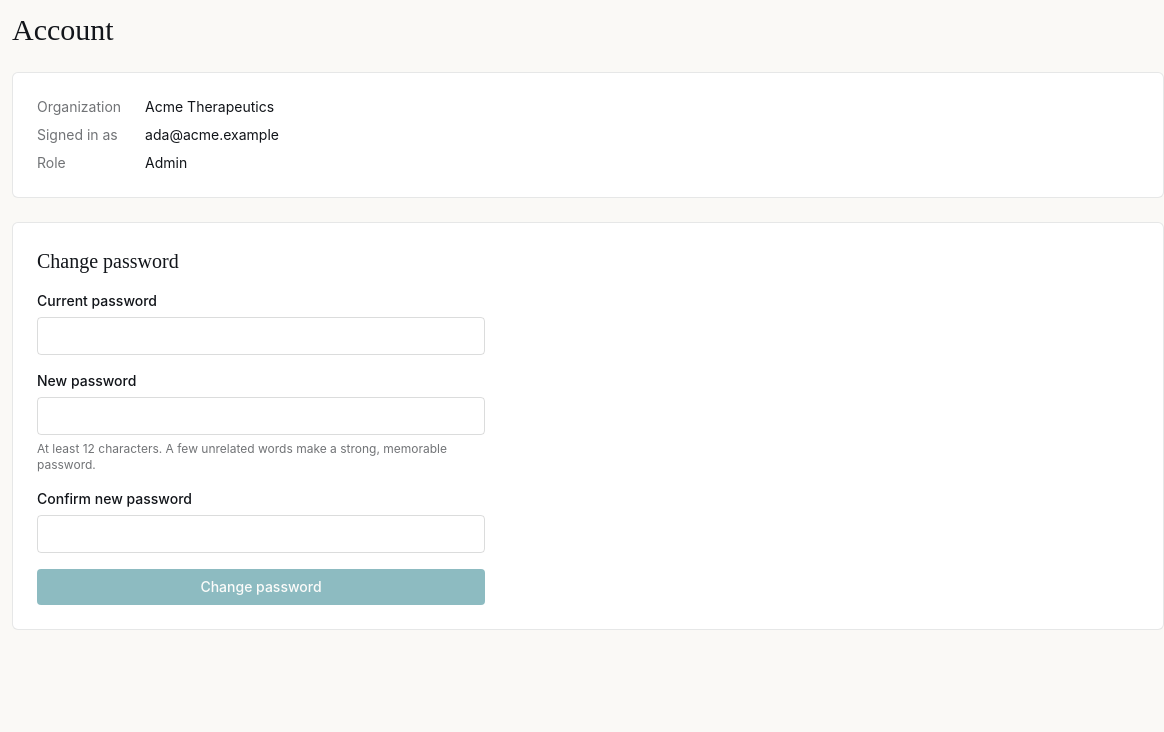
Account › shows the server's message for a wrong current password
Type "not my password" into the password field labelled "Current password" at (261, 336), box [37,317,485,355]
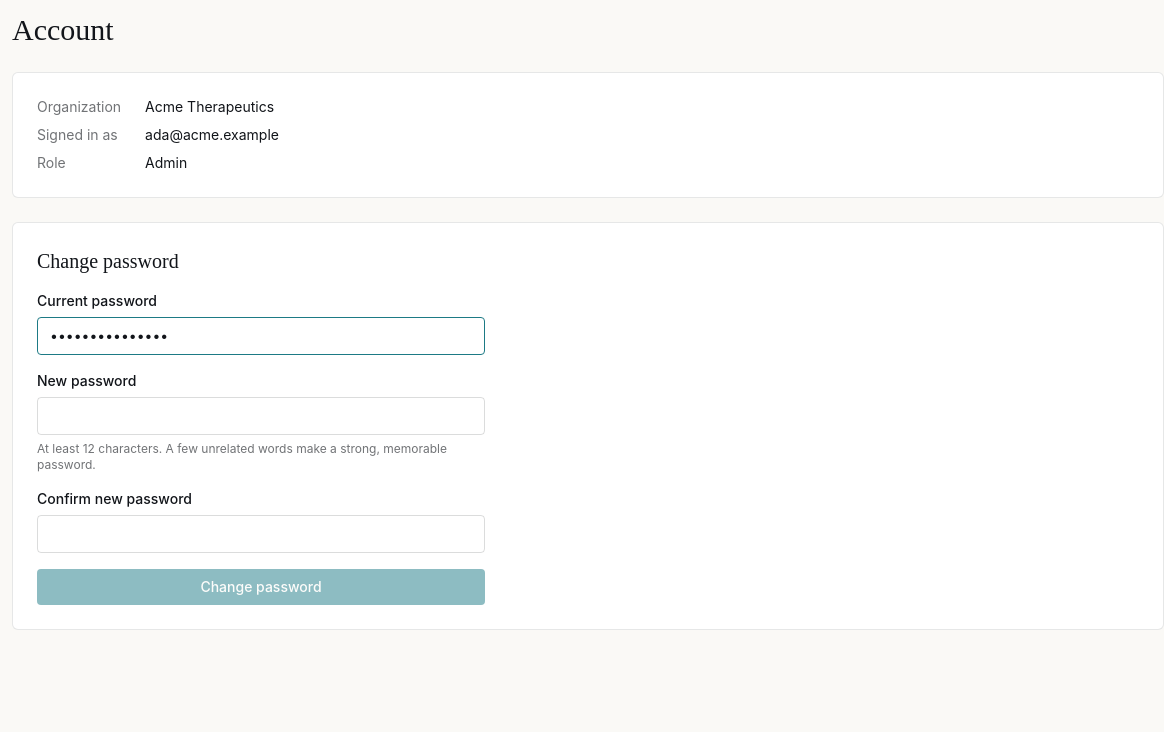
Type "an even better passphrase" into the password field labelled "New password" at (261, 416), box [37,397,485,435]
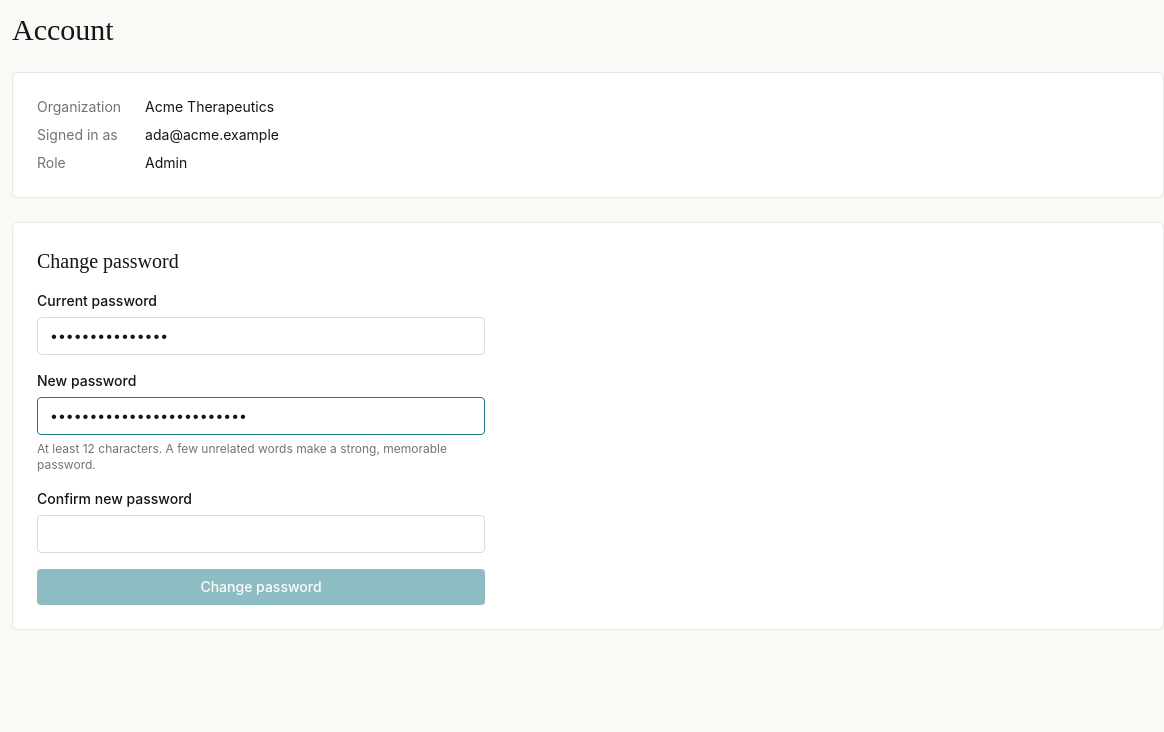
Type "an even better passphrase" into the password field labelled "Confirm new password" at (261, 534), box [37,515,485,553]
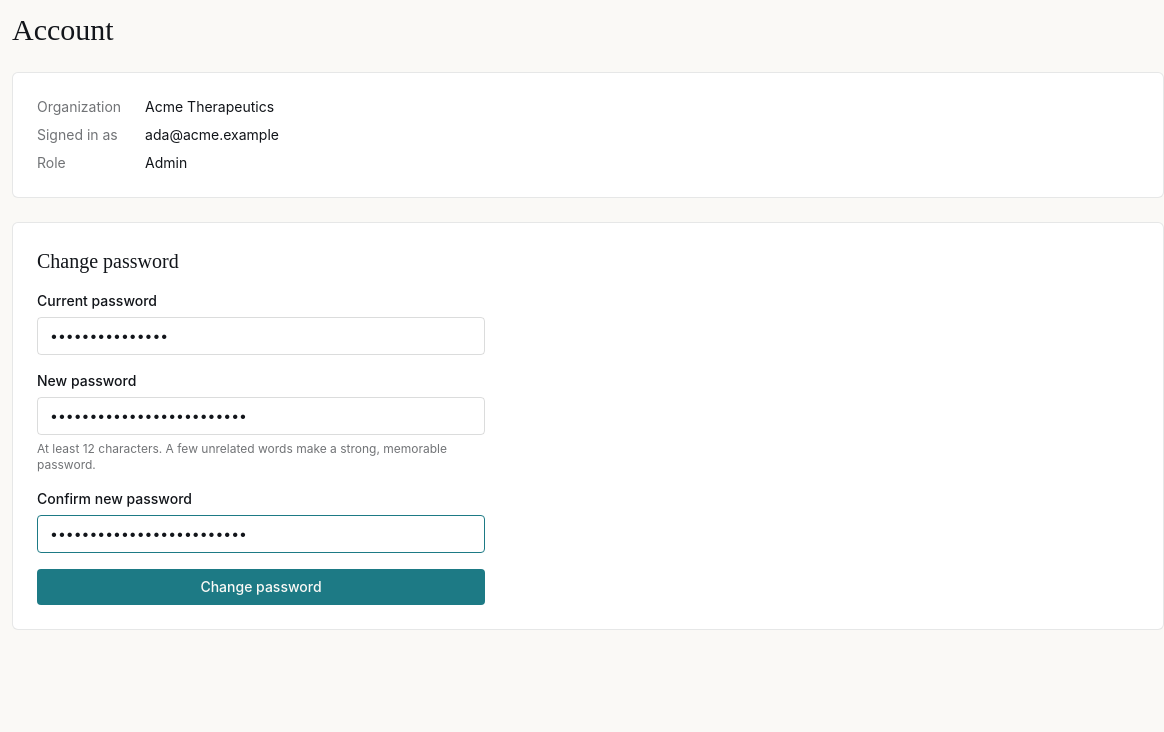
Click the button "Change password" at (261, 587), box [37,569,485,605]
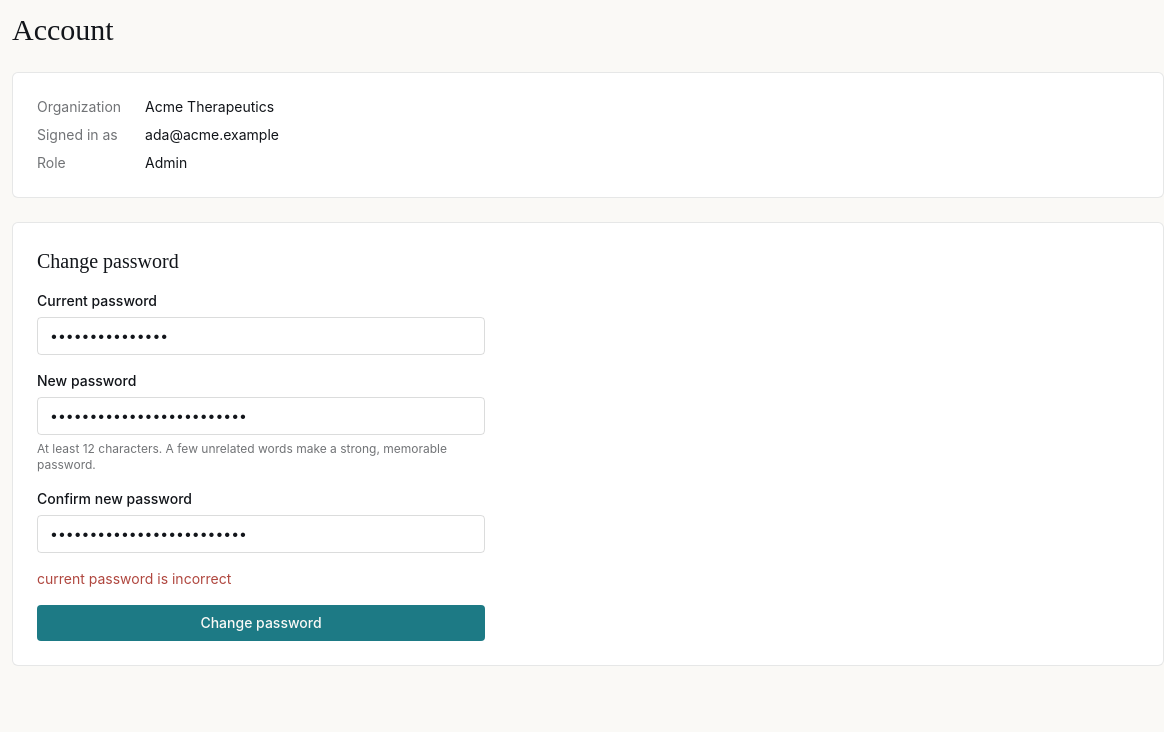
expect the message reads "current password is incorrect": met, box [37,570,231,587]
